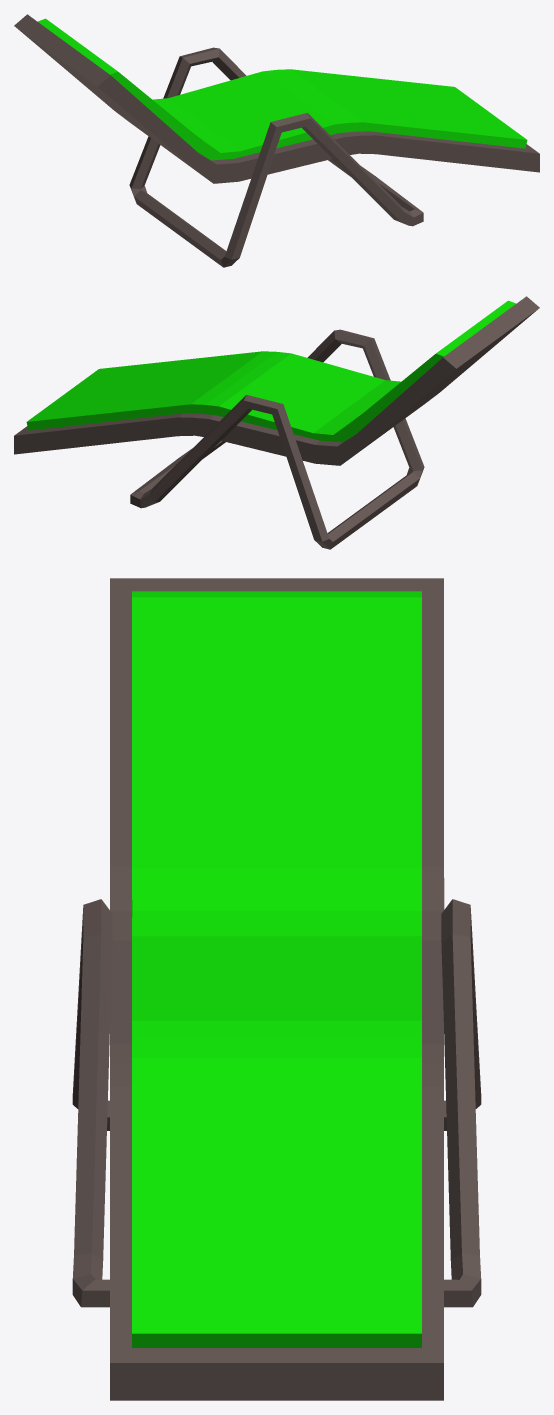
Rendered from sunbed.fbx.
3 renders of one model, top to bottom at view 1: azimuth 30°, elevation 25°; view 2: azimuth 150°, elevation 25°; view 3: azimuth 270°, elevation 25°, orthographic. The views are drawn at different scales.
Visible parts, largest first — view 1: Cube.001, Cube, Cylinder; view 2: Cube.001, Cube, Cylinder; view 3: Cube.001, Cube, Cylinder.
Part boxes in pixels (<box>): Cube.001: <box>38,18,527,160</box>; Cube: <box>14,14,539,183</box>; Cylinder: <box>129,47,423,267</box>; Cube.001: <box>26,300,515,442</box>; Cube: <box>14,296,539,465</box>; Cylinder: <box>130,329,424,549</box>; Cube.001: <box>132,591,421,1347</box>; Cube: <box>110,578,444,1400</box>; Cylinder: <box>72,899,481,1307</box>.
Size of the model in its own units: 760 by 358 by 304.
